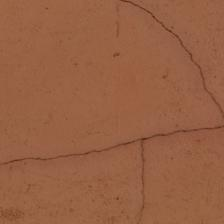Crack: (56, 36, 168, 121), (58, 0, 142, 106), (2, 44, 221, 71)
